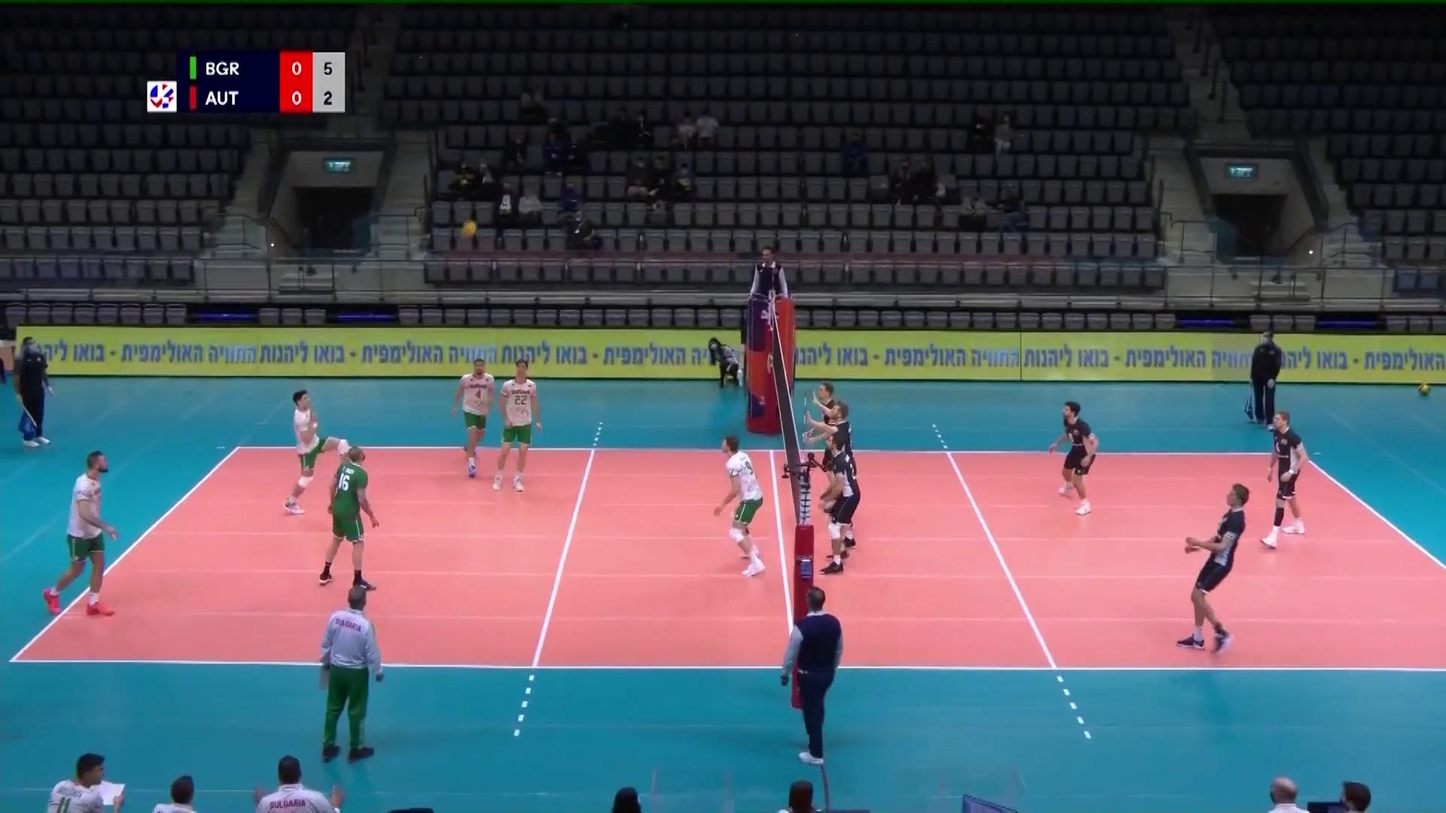ball: (461, 220, 477, 236)
